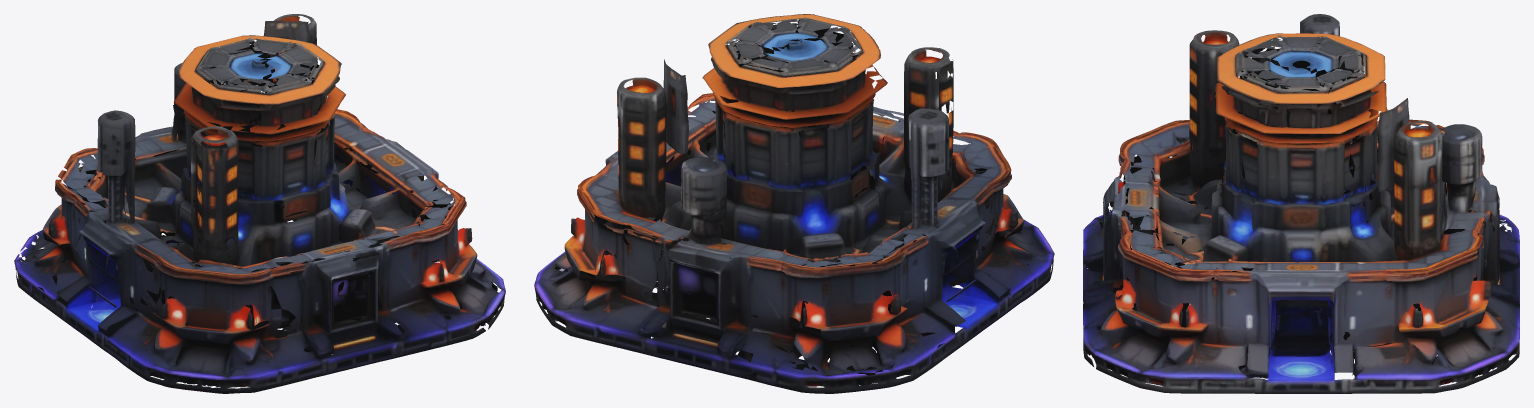
The model's file is stronghold.glb.
3 renders of one model, left to right at view 1: azimuth 30°, elevation 25°; view 2: azimuth 150°, elevation 25°; view 3: azimuth 270°, elevation 25°, orthographic. The views are drawn at different scales.
Visible parts, largest first — view 1: geometry_0.924; view 2: geometry_0.924; view 3: geometry_0.924.
Boxes of the visible parts, <box> form: geometry_0.924: <box>14,14,505,393</box>; geometry_0.924: <box>534,14,1054,393</box>; geometry_0.924: <box>1083,14,1519,393</box>.
Bounding box in the file's own units: 4.9 × 3.02 × 4.9.
Materials: 1 (1 with a texture image).
